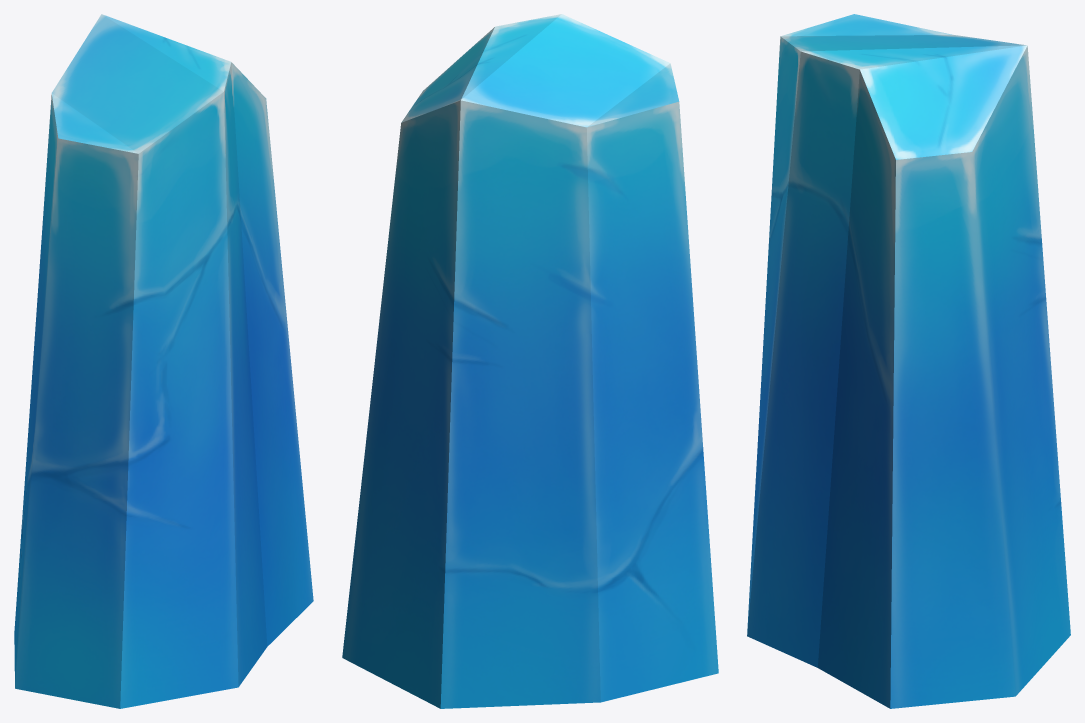
Rendered from Crystal_4.FBX.
The picture shows the model from 3 angles, left to right: view 1: azimuth 30°, elevation 25°; view 2: azimuth 150°, elevation 25°; view 3: azimuth 270°, elevation 25°; orthographic projection. The views are drawn at different scales.
Parts seen in each view (by area): view 1: Crystal_4; view 2: Crystal_4; view 3: Crystal_4.
Part boxes in pixels (<box>): Crystal_4: <box>14,14,313,708</box>; Crystal_4: <box>342,14,718,708</box>; Crystal_4: <box>747,14,1070,708</box>.
Size of what is drawn, in the model's own units: 92.92 by 80.75 by 162.
